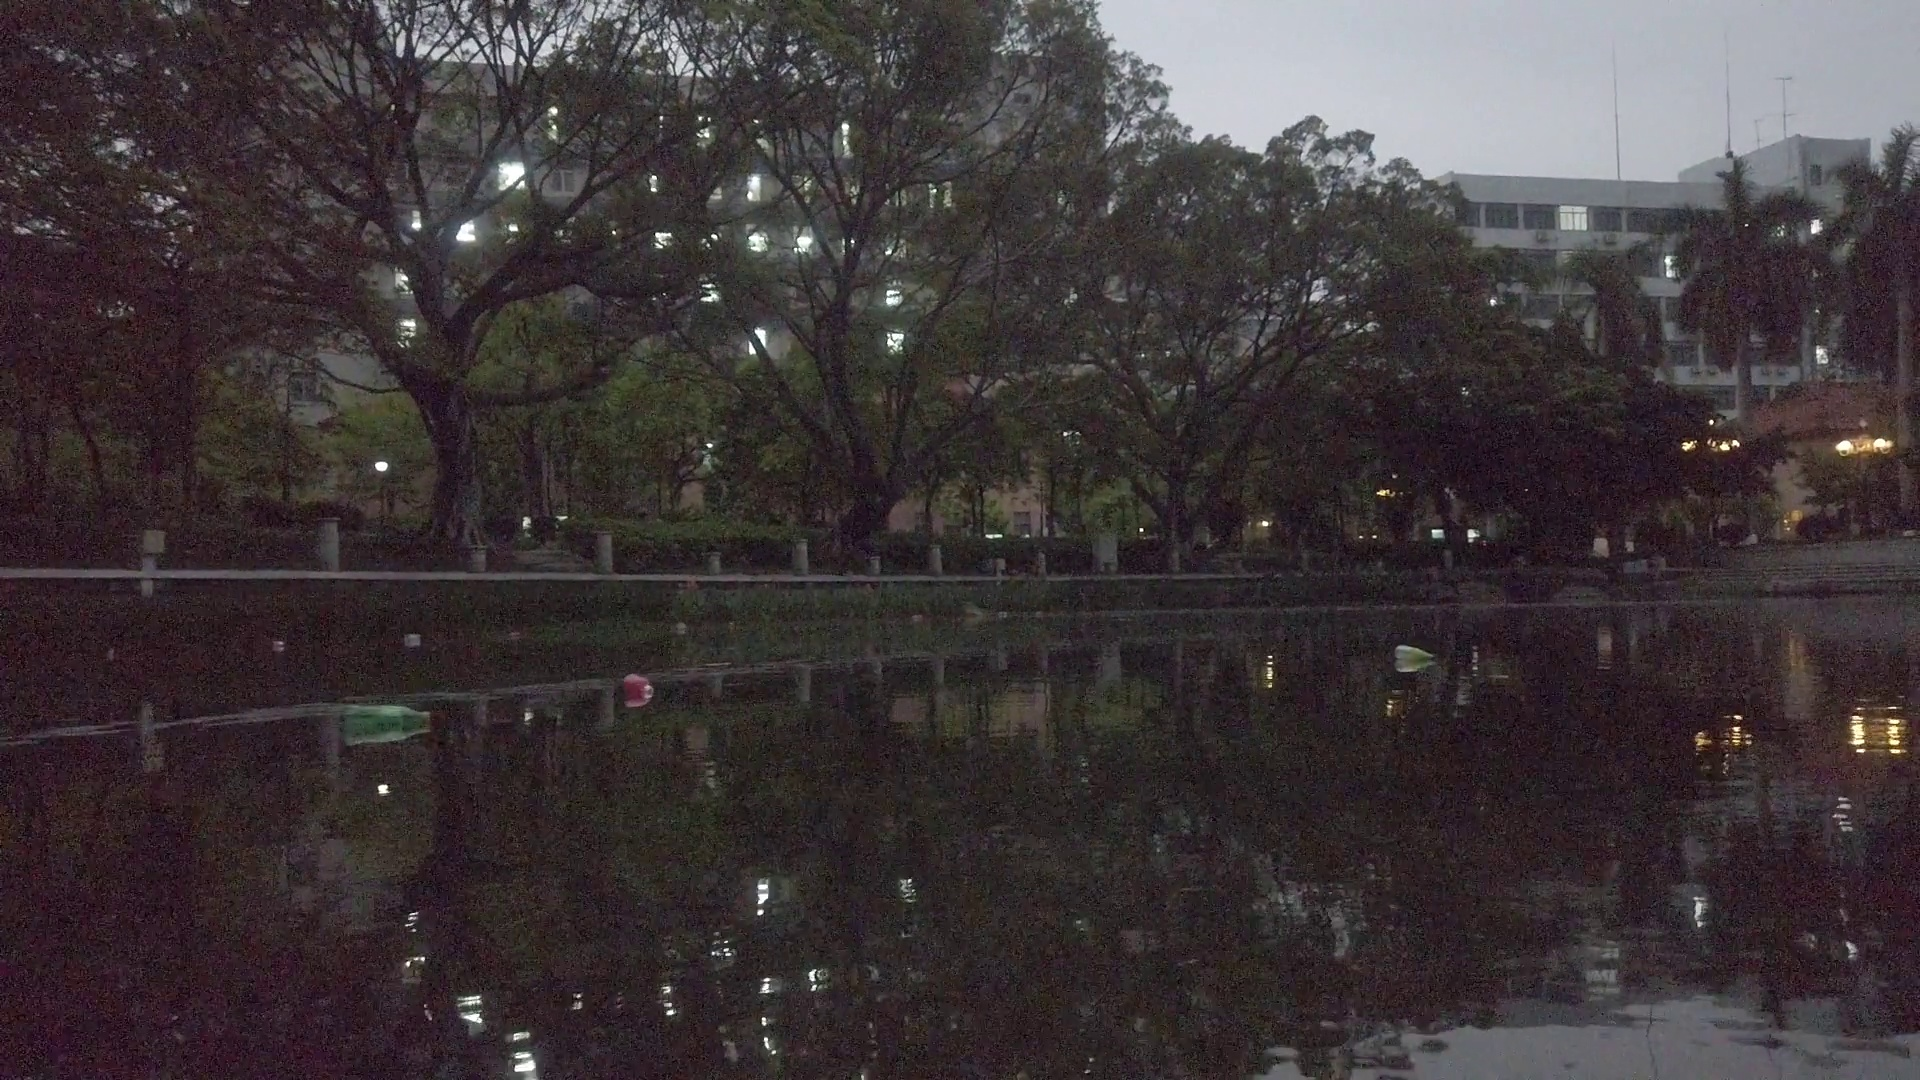bottle: (340, 702, 434, 731), (1393, 642, 1439, 665), (625, 669, 655, 702), (270, 634, 290, 653), (504, 628, 524, 644), (670, 618, 687, 636), (909, 611, 923, 624), (997, 608, 1010, 620)
carton: (404, 629, 422, 647)
